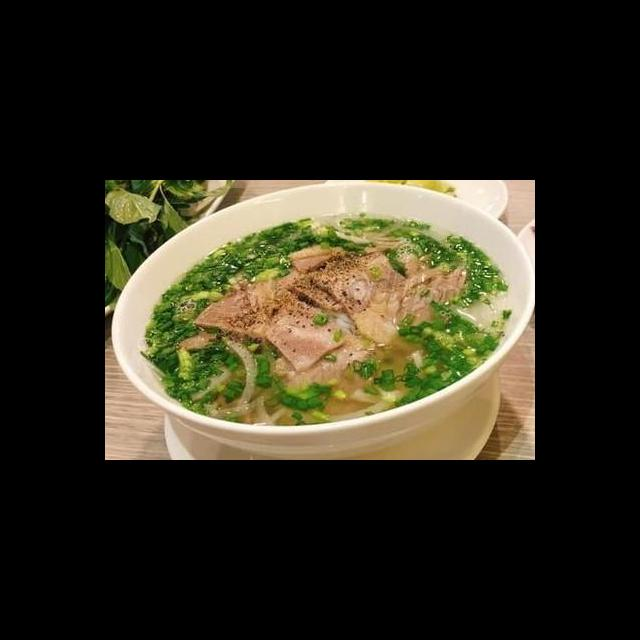thit bo: (304, 246, 414, 348), (192, 267, 304, 342), (387, 255, 474, 344), (269, 326, 377, 393), (266, 298, 353, 374)
